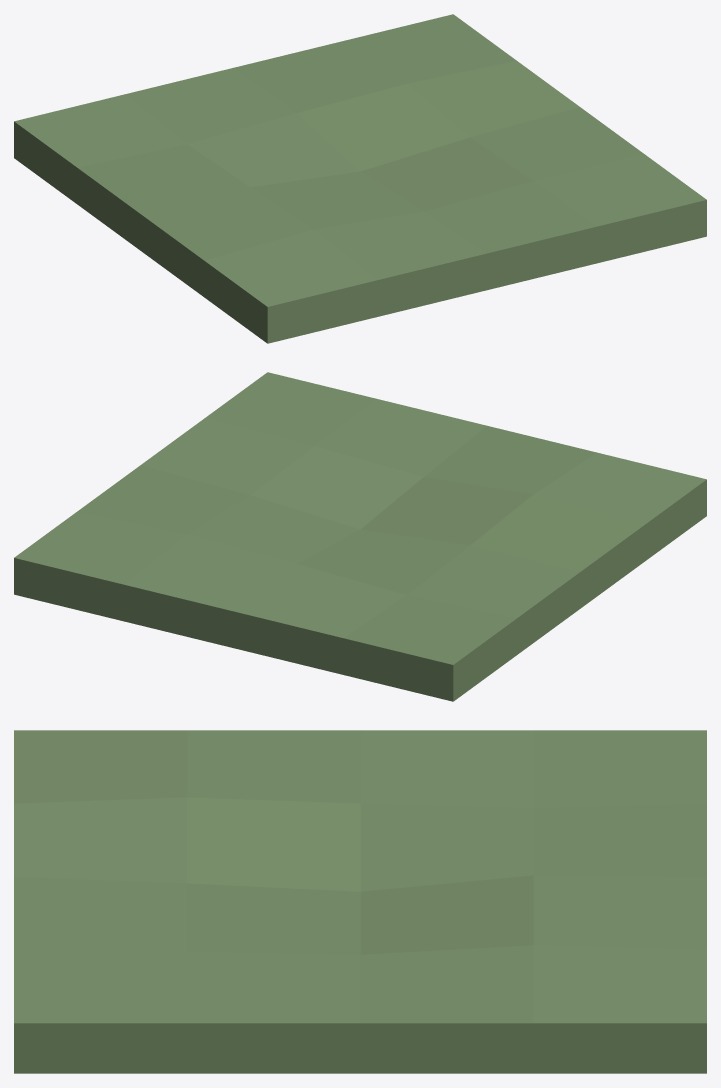
Rendered from terrain_grass.glb.
3 views of the same model, one above another, from view 1: azimuth 30°, elevation 25°; view 2: azimuth 150°, elevation 25°; view 3: azimuth 270°, elevation 25° (orthographic). The views are drawn at different scales.
Parts seen in each view (by area): view 1: terrain_grass; view 2: terrain_grass; view 3: terrain_grass.
Part boxes in pixels (x1,y1,x2,y2): terrain_grass: (14, 14, 706, 343); terrain_grass: (14, 372, 706, 701); terrain_grass: (14, 730, 706, 1073).
Bounding box in the file's own units: 1 × 0.0898 × 1.
